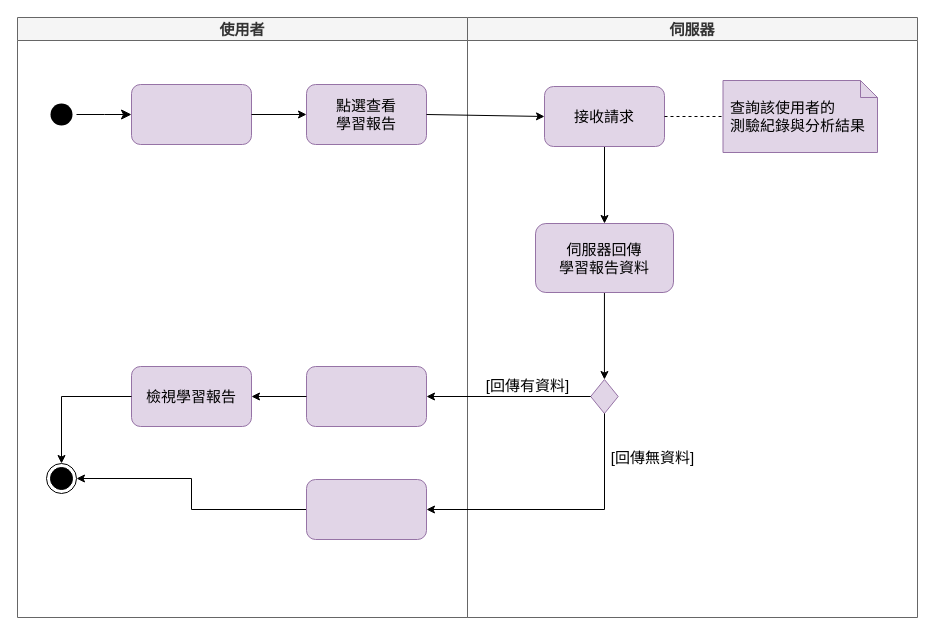
Image size: 935x635. Some labels were removed from this diagram. Each missing label, with the centre of its shape:
"顯示報告" goes at point (366, 396).
"顯示查無資料 提示訊息" goes at point (366, 509).
"點選會員專區" goes at point (191, 114).
